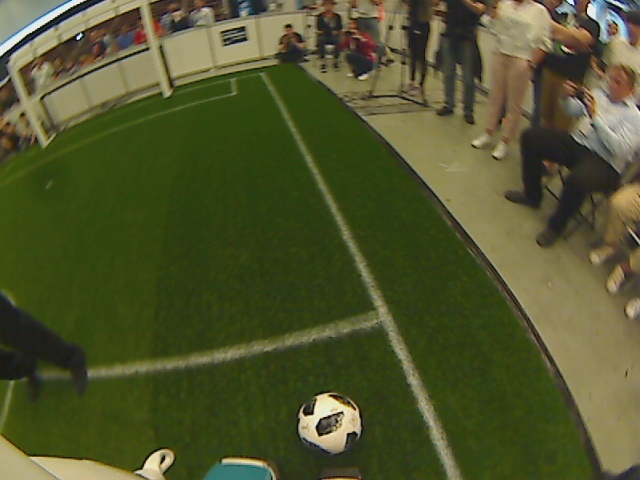ball: (294, 390, 364, 456)
